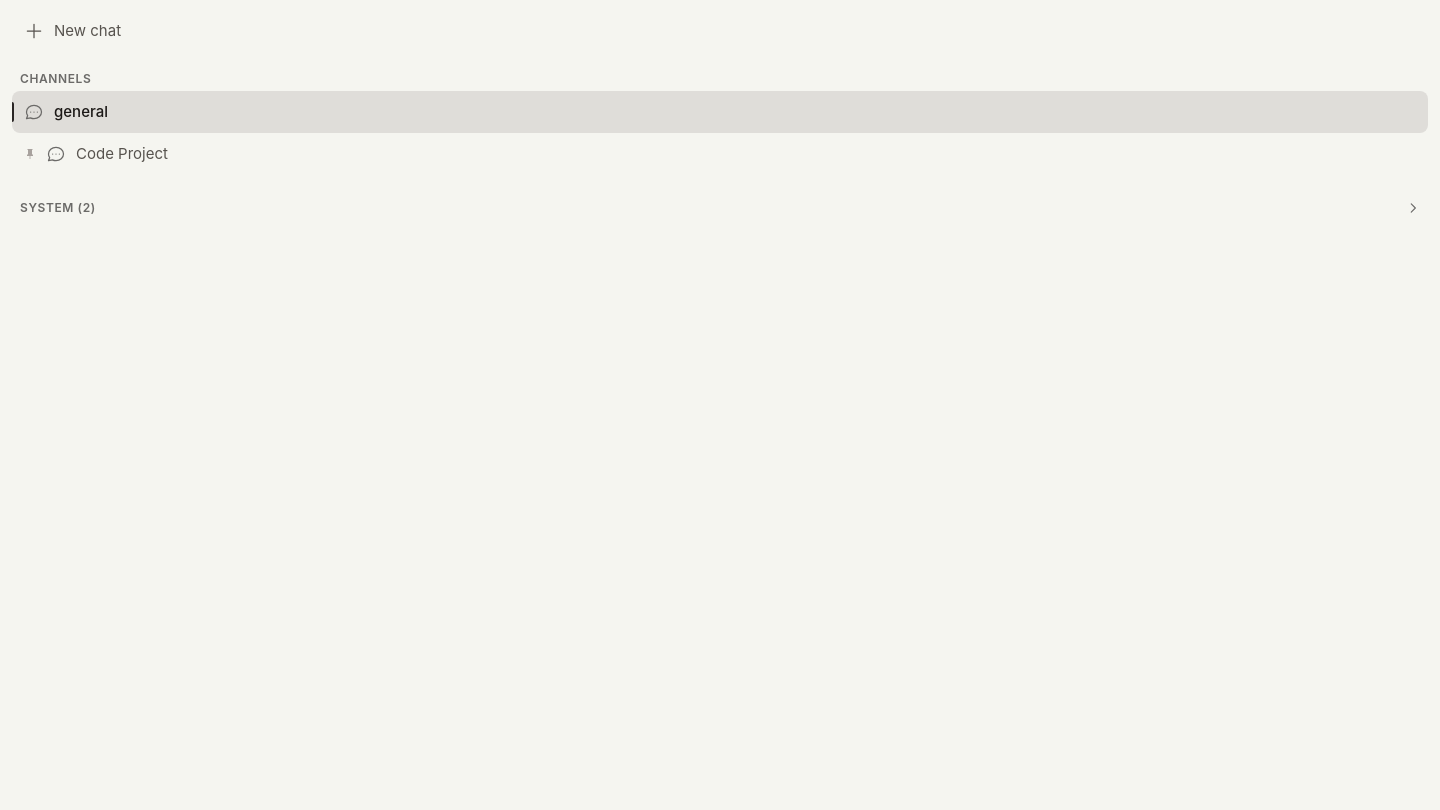
Scenario: delete confirmation › closes dialog on cancel
Right-click the button "general" at (81, 111), box [12,90,1428,133]
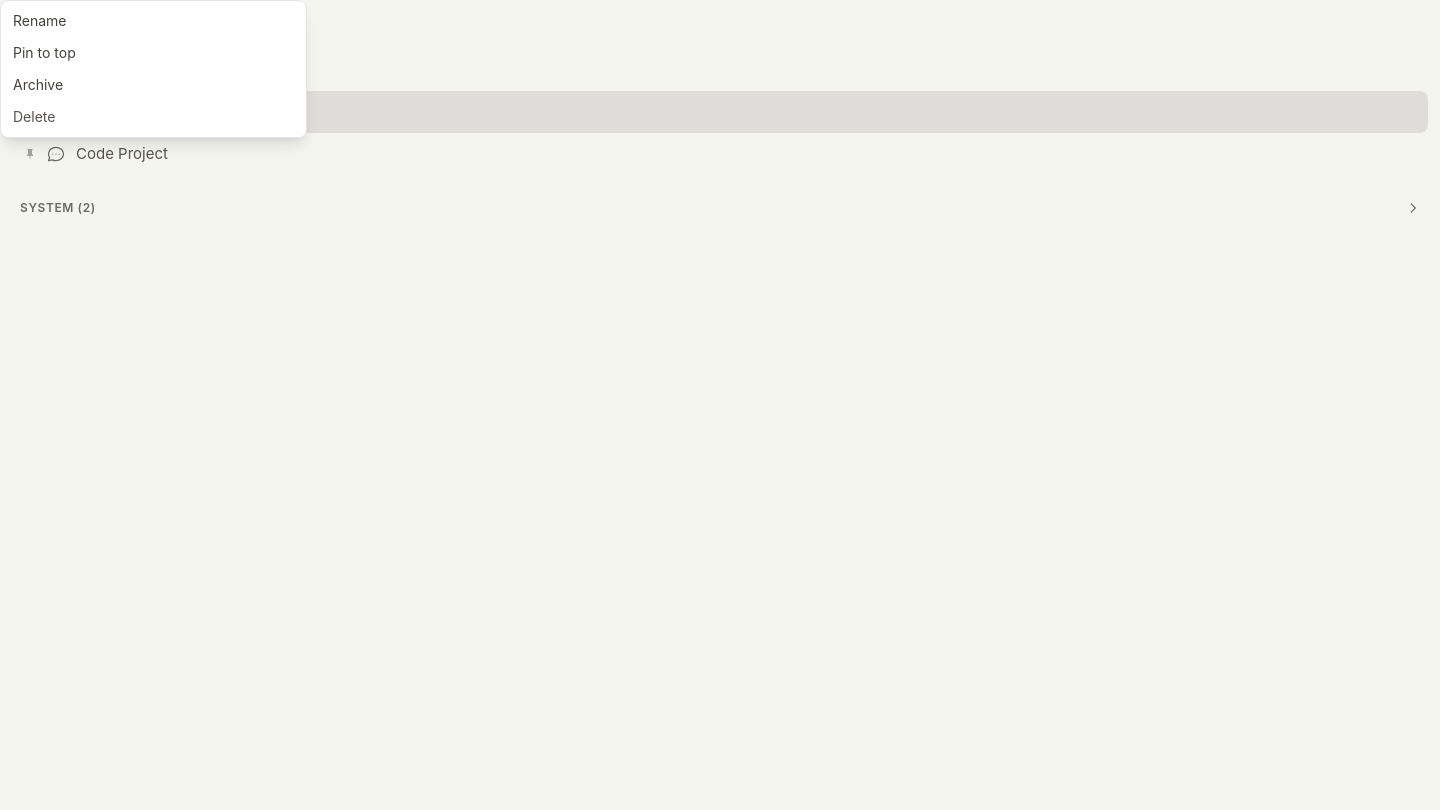
Click the button "Delete". click: click(34, 116)
box: [1,101,306,133]
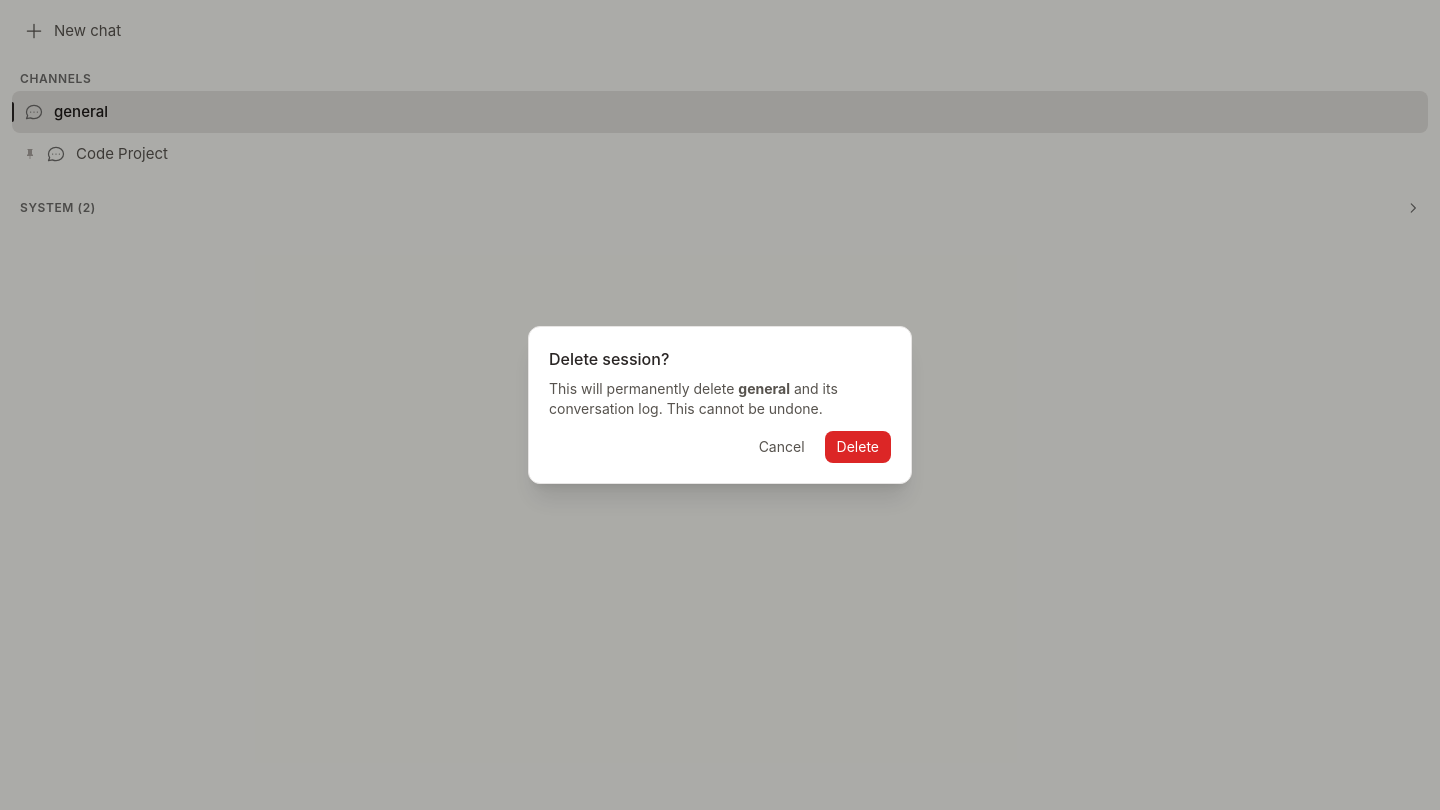
Expected: the heading "Delete session?" is shown, [549,349,669,369]
Click the button "Cancel". click: click(782, 447)
box: [747,431,816,463]
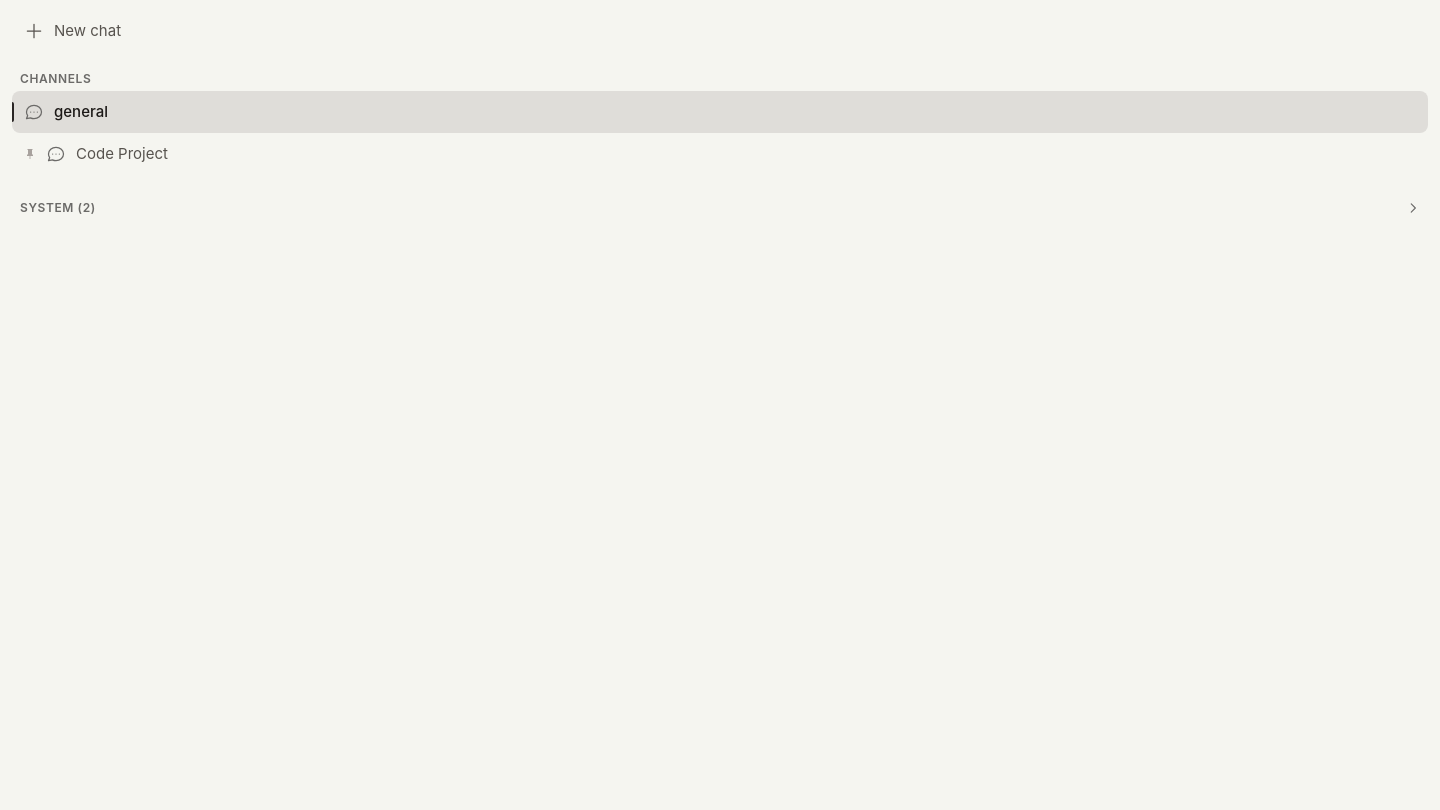
Expected: the heading "Delete session?" is gone
